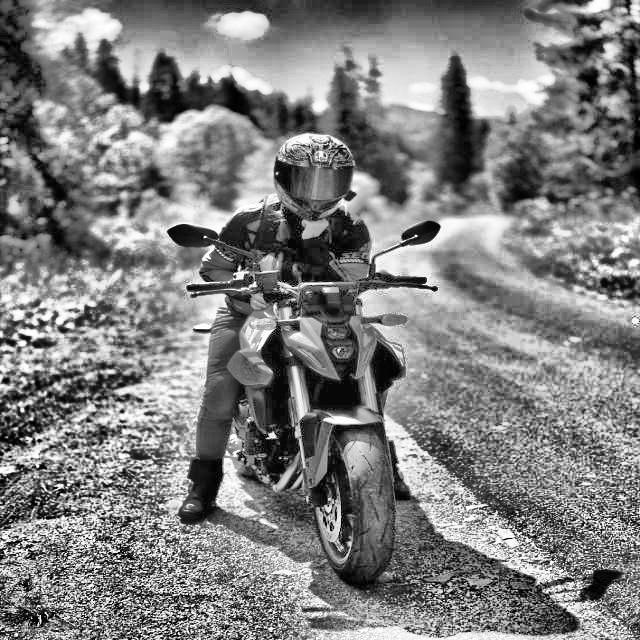Helmet: (270, 130, 358, 224)
